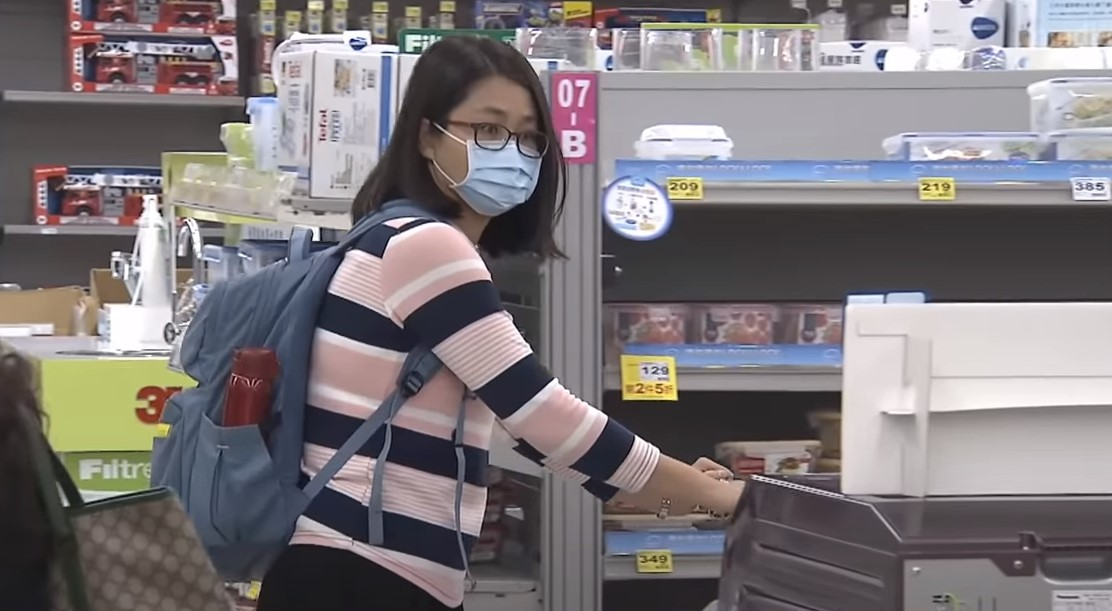face_with_mask: (397, 33, 560, 221)
